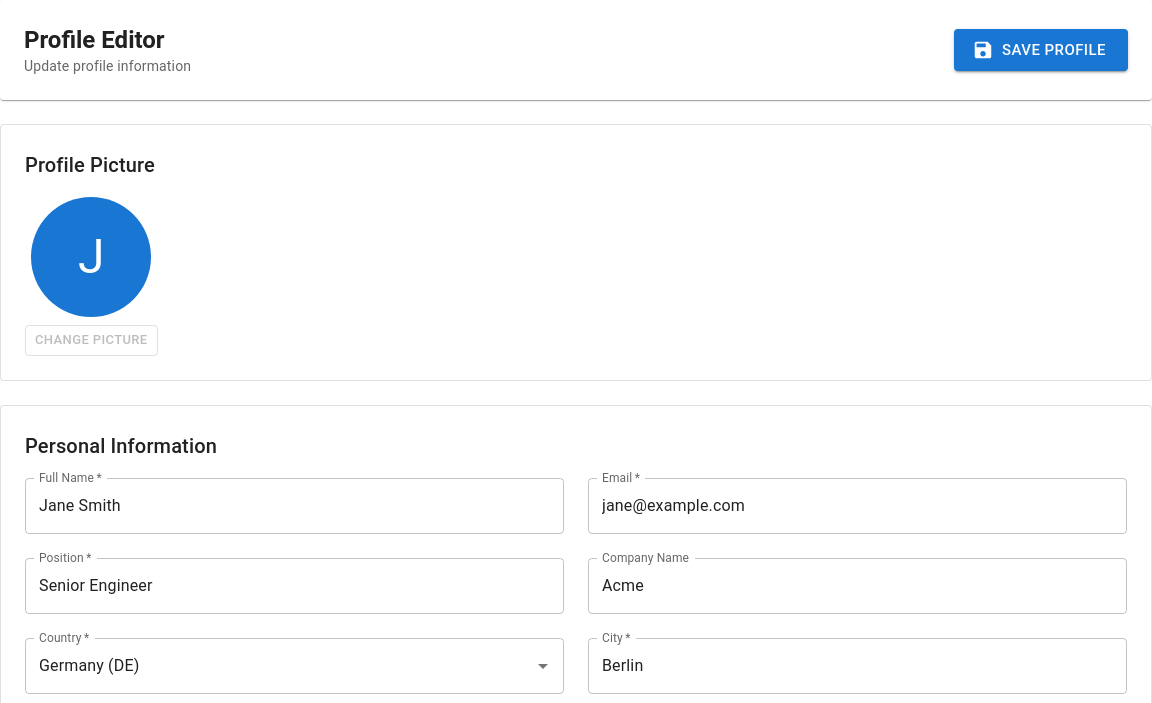
Test: EditMentorForm › Given form is loaded, when Save Profile succeeds, then success message is shown
Expected: the field showing "Jane Smith" is shown, [25,478,564,534]
Click the button "Save Profile": (1041, 50) [954,29,1128,71]
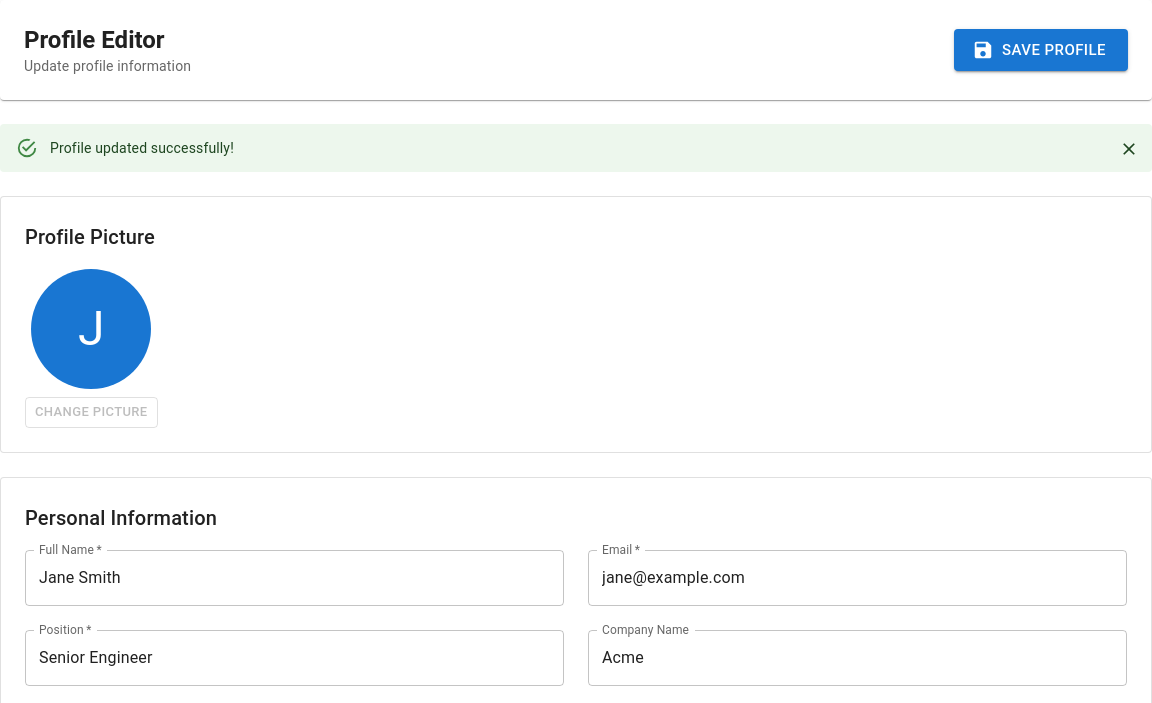
Now the text "Profile updated successfully!" is shown, box [50,140,234,156]
